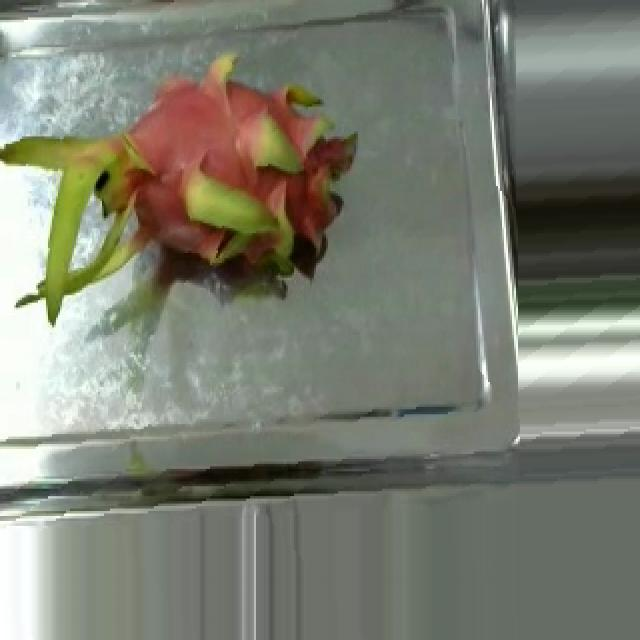fruit: (0, 12, 380, 355)
